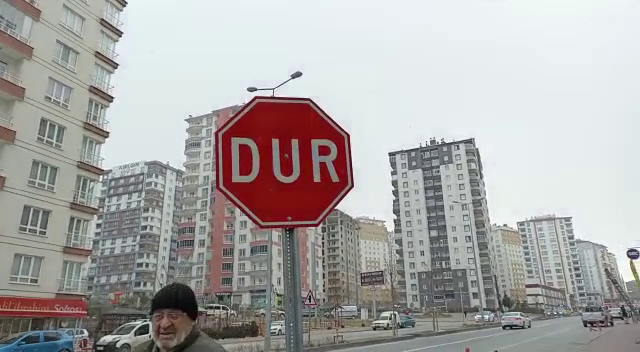stop: (212, 94, 356, 231)
